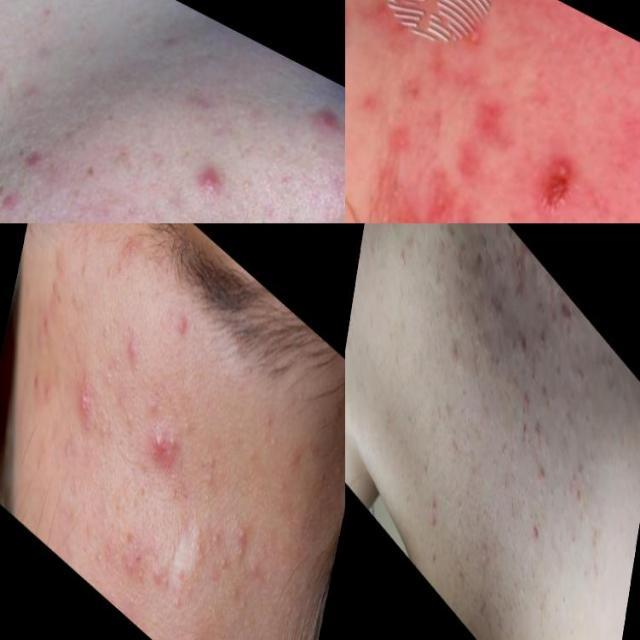Pimples: (180, 120, 242, 216), (387, 155, 469, 223), (464, 86, 528, 160), (292, 71, 345, 157), (534, 134, 588, 218), (142, 403, 184, 485), (175, 507, 213, 596), (394, 54, 434, 114), (70, 372, 100, 434), (510, 236, 535, 302), (174, 295, 198, 353), (446, 196, 497, 223), (513, 302, 534, 366), (120, 320, 146, 370), (230, 506, 254, 560), (468, 235, 490, 283), (110, 251, 130, 291), (536, 444, 552, 492), (68, 329, 85, 365), (430, 475, 443, 522), (517, 379, 533, 416), (524, 553, 540, 587), (509, 566, 522, 603), (472, 496, 485, 530), (120, 553, 136, 580)
